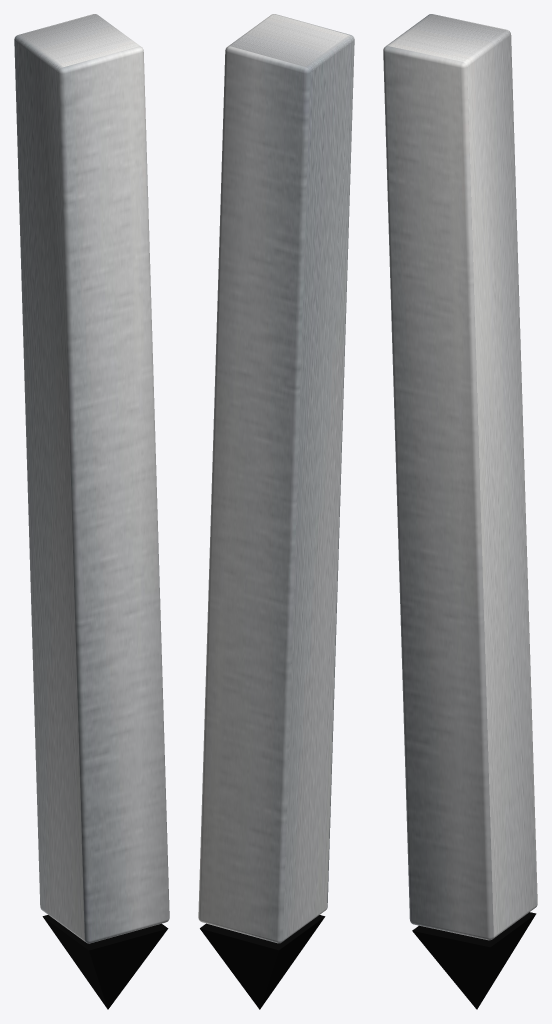
3 renders of one model, left to right at view 1: azimuth 30°, elevation 25°; view 2: azimuth 150°, elevation 25°; view 3: azimuth 330°, elevation 25°, orthographic.
Visible parts, largest first — view 1: 石笔; view 2: 石笔; view 3: 石笔.
Part boxes in pixels (x1,y1,x2,y2): 石笔: (14,14,169,1009); 石笔: (198,14,354,1009); 石笔: (383,14,537,1009).
Bounding box in the file's own units: 0.0776 × 0.6543 × 0.0597.
Materials: 2 (1 with a texture image).
